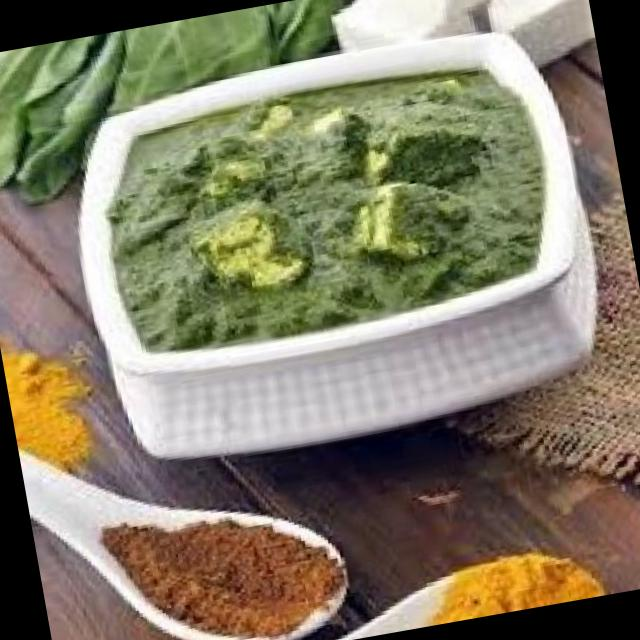palak_paneer: (88, 52, 569, 366)
